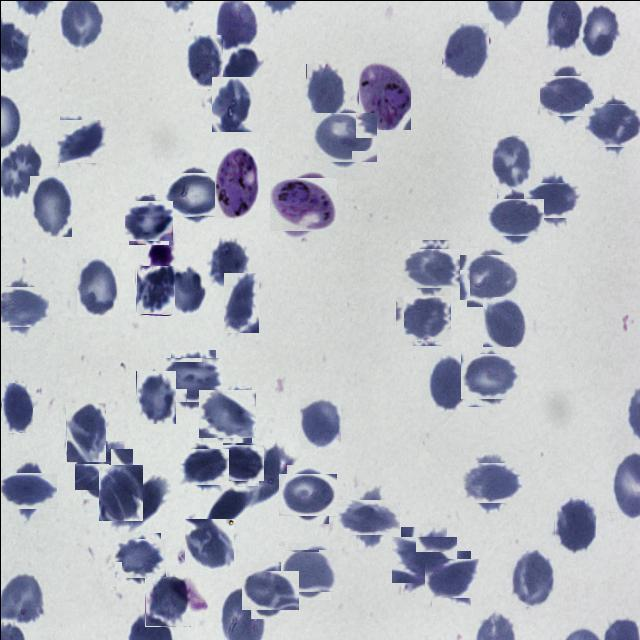difficult: (358, 58, 410, 128), (272, 174, 332, 234)
red blood cell: (316, 108, 372, 165), (395, 531, 451, 587), (167, 167, 220, 221), (200, 387, 253, 440), (462, 250, 516, 302), (166, 353, 219, 405), (440, 22, 488, 79), (464, 350, 516, 402), (28, 175, 71, 237), (464, 457, 516, 508), (588, 99, 640, 150), (508, 549, 553, 607), (282, 468, 332, 518), (398, 292, 448, 342), (284, 546, 334, 596), (78, 444, 128, 494), (305, 62, 345, 124), (76, 257, 118, 316), (98, 464, 142, 520), (343, 492, 392, 542), (184, 518, 233, 568), (553, 496, 595, 554), (482, 296, 526, 351), (65, 402, 105, 462), (2, 465, 50, 514), (211, 76, 253, 131), (406, 244, 454, 292), (246, 566, 294, 614), (491, 192, 539, 240), (144, 576, 190, 626), (580, 3, 620, 60), (542, 71, 590, 118), (429, 354, 468, 411), (223, 272, 260, 332), (427, 554, 474, 601), (490, 136, 534, 186), (135, 369, 175, 424), (299, 397, 342, 448), (57, 117, 104, 163), (528, 176, 574, 222), (117, 534, 163, 580), (0, 282, 43, 330), (208, 237, 248, 286), (135, 264, 174, 314), (186, 34, 222, 88), (182, 444, 226, 488), (126, 198, 170, 242), (166, 265, 204, 315), (220, 442, 260, 482), (0, 382, 32, 432)
trophozoite: (214, 146, 259, 218)
